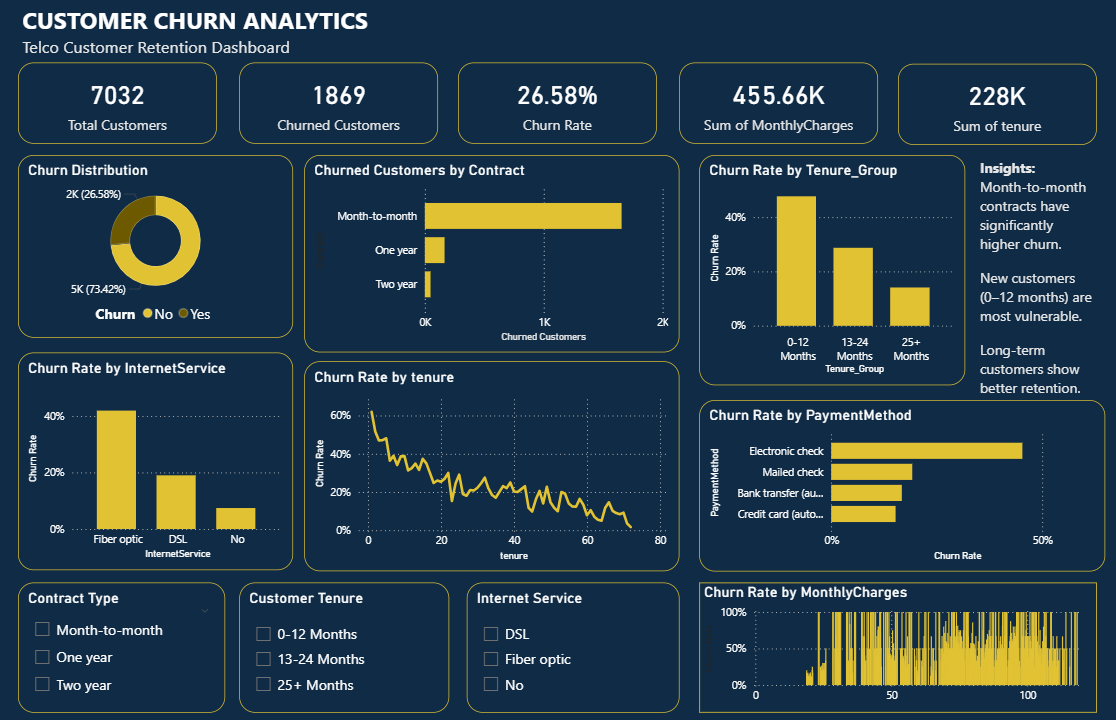

What the dashboard file says about the page in this screenshot:
{"tool":"powerbi","page":{"name":"Page 1","canvas":[1280,825],"ordinal":0},"visuals":[{"type":"textbox","box":[22.9,14.3,474.3,71.4],"z":0},{"type":"card","fields":{"Values":["Telco_Churn_Data.Total Customers"]},"box":[22.9,85.7,227.1,92.9],"z":1000},{"type":"card","fields":{"Values":["Telco_Churn_Data.Churned Customers"]},"box":[275.7,85.7,227.1,92.9],"z":2000},{"type":"card","fields":{"Values":["Telco_Churn_Data.Churn Rate"]},"box":[525.7,85.7,227.1,92.9],"z":3000},{"type":"card","fields":{"Values":["Sum(Telco_Churn_Data.MonthlyCharges)"]},"box":[778.6,85.7,227.1,92.9],"z":4000},{"type":"card","fields":{"Values":["Sum(Telco_Churn_Data.tenure)"]},"box":[1028.6,85.7,227.1,92.9],"z":5000},{"type":"donutChart","title":"Churn Distribution","fields":{"Category":["Telco_Churn_Data.Churn"],"Y":["Telco_Churn_Data.Total Customers"]},"box":[22.9,202.9,314.3,194.3],"z":6000},{"type":"clusteredBarChart","fields":{"Category":["Telco_Churn_Data.Contract"],"Y":["Telco_Churn_Data.Churned Customers"]},"box":[350,202.9,428.6,194.3],"z":7000},{"type":"clusteredColumnChart","fields":{"Category":["Telco_Churn_Data.Tenure_Group"],"Y":["Telco_Churn_Data.Churn Rate"]},"box":[801.4,202.9,304.3,262.9],"z":8000},{"type":"textbox","box":[1117.1,192.9,138.6,357.1],"z":9000},{"type":"columnChart","fields":{"Category":["Telco_Churn_Data.InternetService"],"Y":["Telco_Churn_Data.Churn Rate"]},"box":[22.9,412.9,314.3,238.6],"z":10000},{"type":"lineChart","fields":{"Category":["Telco_Churn_Data.tenure"],"Y":["Telco_Churn_Data.Churn Rate"]},"box":[350,414.3,428.6,238.6],"z":11000},{"type":"clusteredBarChart","fields":{"Category":["Telco_Churn_Data.PaymentMethod"],"Y":["Telco_Churn_Data.Churn Rate"]},"box":[801.4,482.9,464.3,195.7],"z":12000},{"type":"slicer","title":"Contract Type","fields":{"Values":["Telco_Churn_Data.Contract"]},"box":[22.9,665.7,237.1,148.6],"z":13000},{"type":"slicer","title":"Customer Tenure","fields":{"Values":["Telco_Churn_Data.Tenure_Group"]},"box":[275.7,665.7,240,148.6],"z":14000},{"type":"slicer","title":"Internet Service","fields":{"Values":["Telco_Churn_Data.InternetService"]},"box":[535.7,665.7,242.9,148.6],"z":15000},{"type":"clusteredColumnChart","fields":{"Category":["Telco_Churn_Data.MonthlyCharges"],"Y":["Telco_Churn_Data.Churn Rate"]},"box":[801.4,688.6,454.3,125.7],"z":15001}]}

Visuals, with their boxes in screenshot pixels (x1, y1, x2, y2), scaled from the page's 1280x825 canvas onto the 1116x720 screenshot:
textbox: crop(20, 12, 433, 75)
card - Telco_Churn_Data.Total Customers: crop(20, 75, 218, 156)
card - Telco_Churn_Data.Churned Customers: crop(240, 75, 438, 156)
card - Telco_Churn_Data.Churn Rate: crop(458, 75, 656, 156)
card - Sum(Telco_Churn_Data.MonthlyCharges): crop(679, 75, 877, 156)
card - Sum(Telco_Churn_Data.tenure): crop(897, 75, 1095, 156)
"Churn Distribution" donutChart: crop(20, 177, 294, 347)
clusteredBarChart - Telco_Churn_Data.Contract x Telco_Churn_Data.Churned Customers: crop(305, 177, 679, 347)
clusteredColumnChart - Telco_Churn_Data.Tenure_Group x Telco_Churn_Data.Churn Rate: crop(699, 177, 964, 407)
textbox: crop(974, 168, 1095, 480)
columnChart - Telco_Churn_Data.InternetService x Telco_Churn_Data.Churn Rate: crop(20, 360, 294, 569)
lineChart - Telco_Churn_Data.tenure x Telco_Churn_Data.Churn Rate: crop(305, 362, 679, 570)
clusteredBarChart - Telco_Churn_Data.PaymentMethod x Telco_Churn_Data.Churn Rate: crop(699, 421, 1104, 592)
"Contract Type" slicer: crop(20, 581, 227, 711)
"Customer Tenure" slicer: crop(240, 581, 450, 711)
"Internet Service" slicer: crop(467, 581, 679, 711)
clusteredColumnChart - Telco_Churn_Data.MonthlyCharges x Telco_Churn_Data.Churn Rate: crop(699, 601, 1095, 711)
